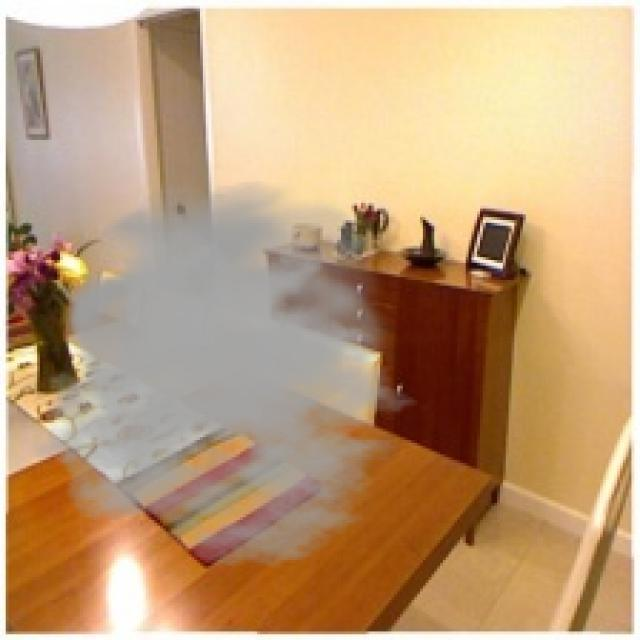Smoke: (32, 180, 437, 569)
